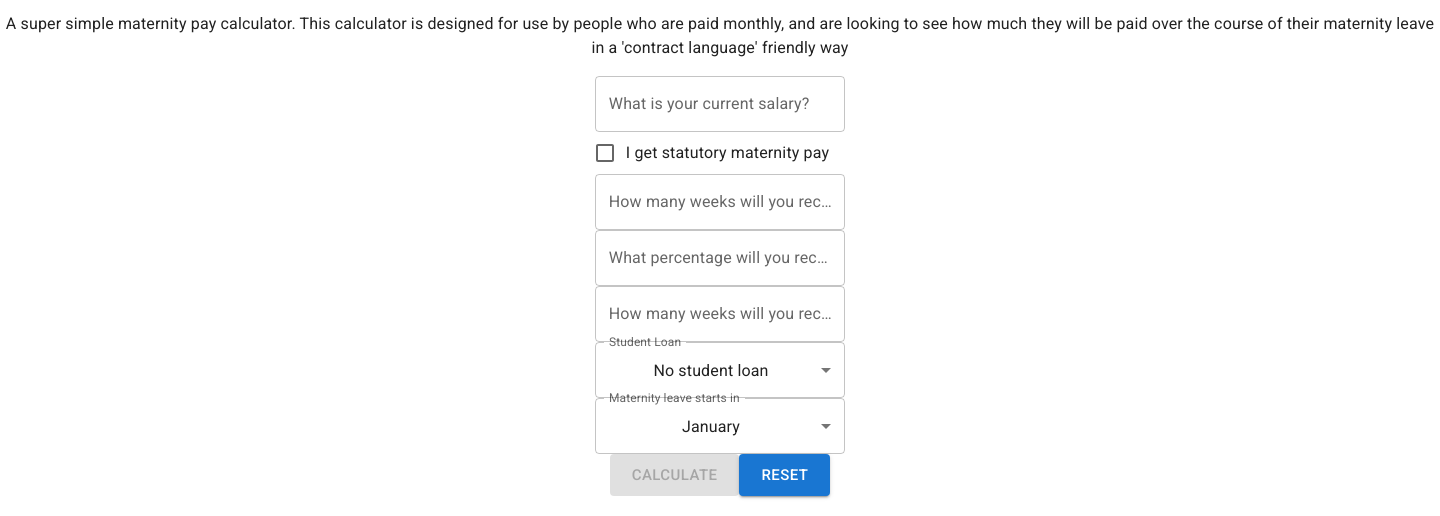
Scenario: PayForm › when user selects statutory maternity pay, weeks field sets to 6 and read only
What coordinates should you click on to do the following:
click the checkbox labelled "I get statutory maternity pay"
I would click on:
 (711, 153)
Its box is [593,141,829,165].
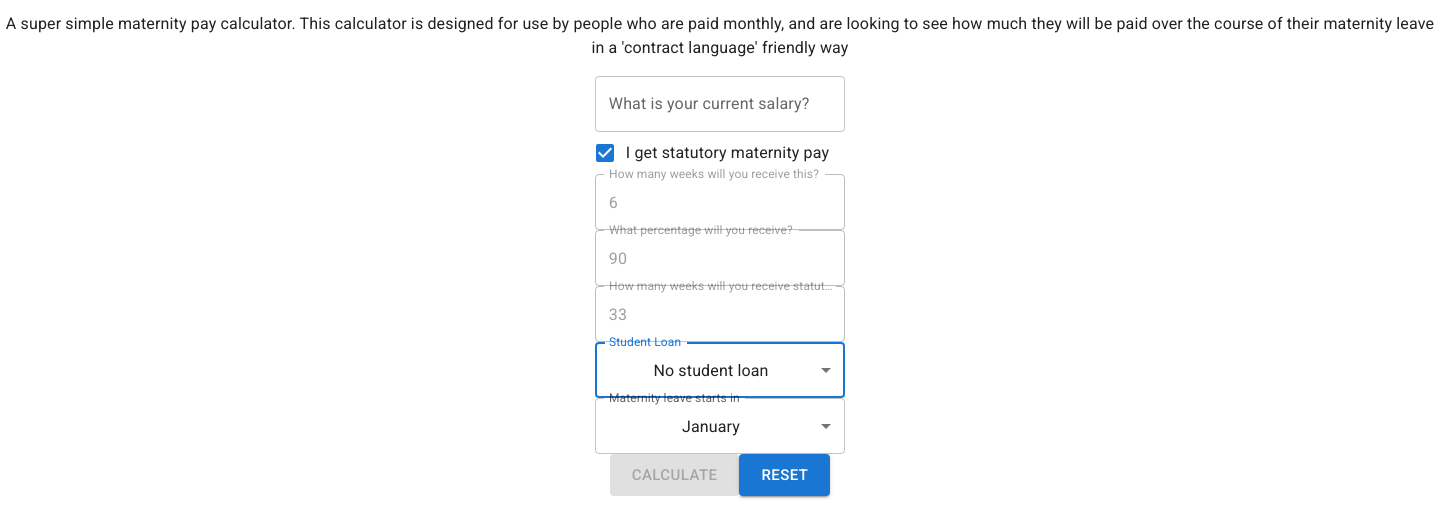
Now the checkbox labelled "I get statutory maternity pay" is checked, box [593,141,829,165]
Now the number field labelled "How many weeks will you receive this?" holds "6", box [595,174,845,230]
